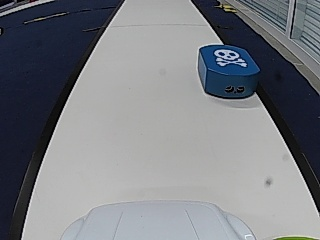danger: (214, 48, 246, 67)
